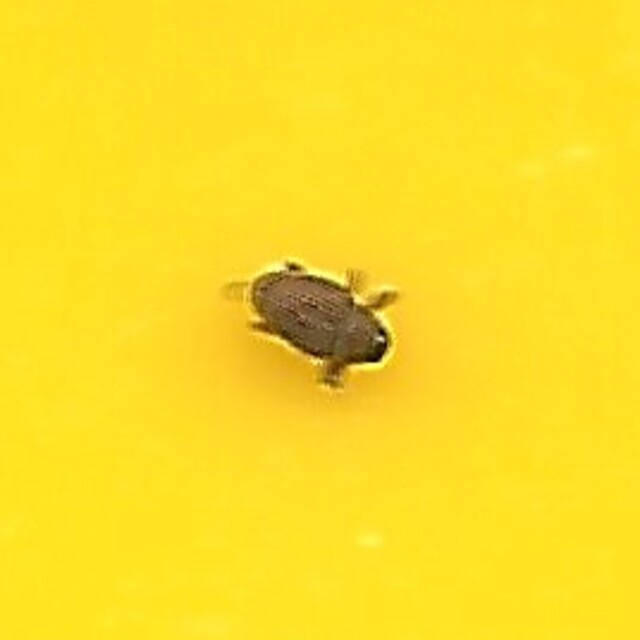Coleoptera: (239, 250, 401, 390)
